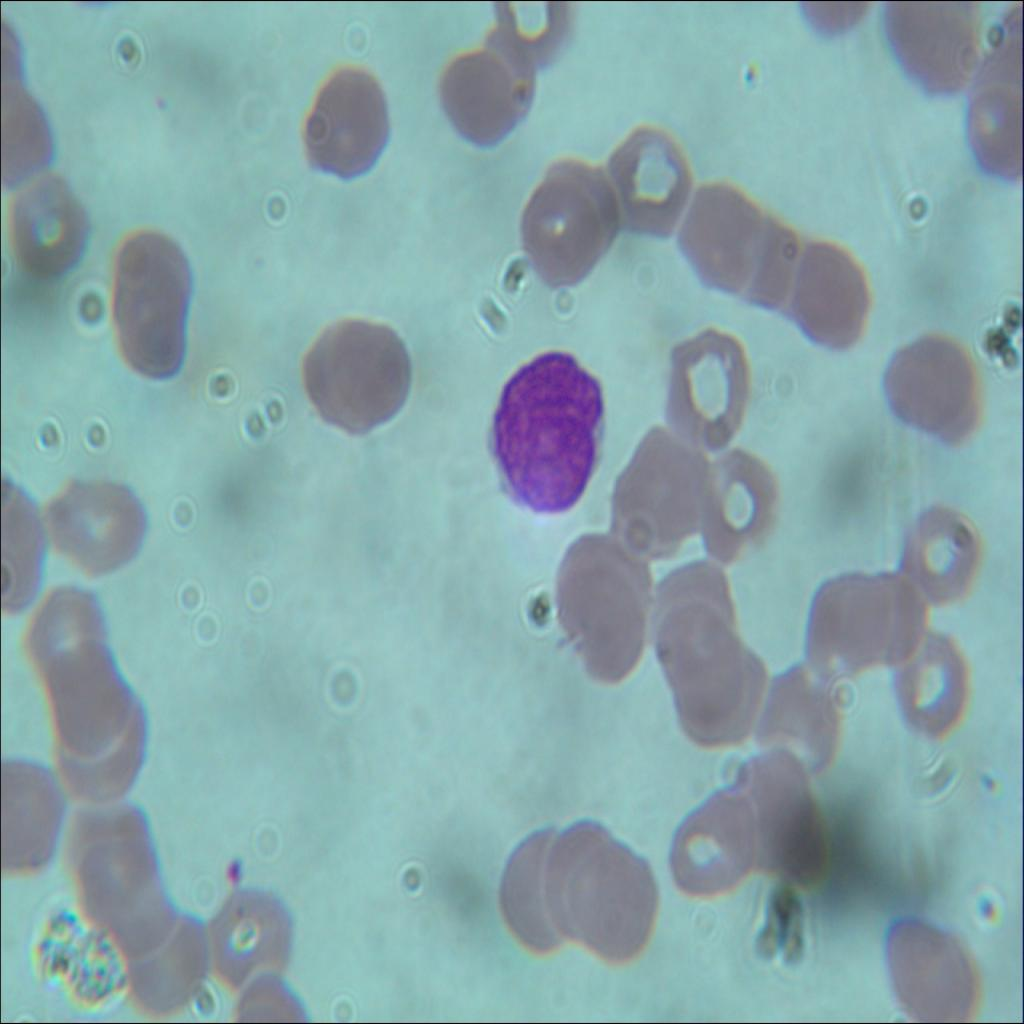Eritrosit: (558, 531, 658, 685), (304, 308, 418, 438), (106, 238, 202, 381), (40, 464, 146, 578), (308, 62, 402, 188), (886, 0, 994, 108), (0, 167, 95, 287), (616, 425, 710, 544), (70, 811, 164, 930), (882, 909, 980, 1023), (660, 324, 750, 447), (778, 231, 869, 352), (895, 494, 988, 612), (698, 444, 788, 565), (58, 698, 156, 808), (611, 114, 696, 235), (736, 758, 826, 872), (500, 821, 574, 958), (886, 322, 974, 437), (568, 840, 658, 952), (530, 148, 621, 254), (672, 785, 758, 894), (521, 184, 603, 296), (762, 666, 846, 772), (648, 559, 735, 661), (896, 627, 969, 745), (796, 575, 882, 674), (436, 45, 518, 147), (482, 0, 582, 82), (50, 645, 126, 752), (686, 645, 766, 746), (26, 583, 103, 687), (678, 186, 759, 284), (546, 817, 620, 924), (209, 894, 296, 985), (724, 205, 801, 307), (964, 54, 1023, 184), (0, 757, 62, 874), (129, 922, 211, 1007), (106, 867, 178, 961), (670, 608, 738, 704), (859, 568, 924, 666)
Limfoblast: (483, 335, 609, 512)
Platelet: (221, 854, 249, 892)
